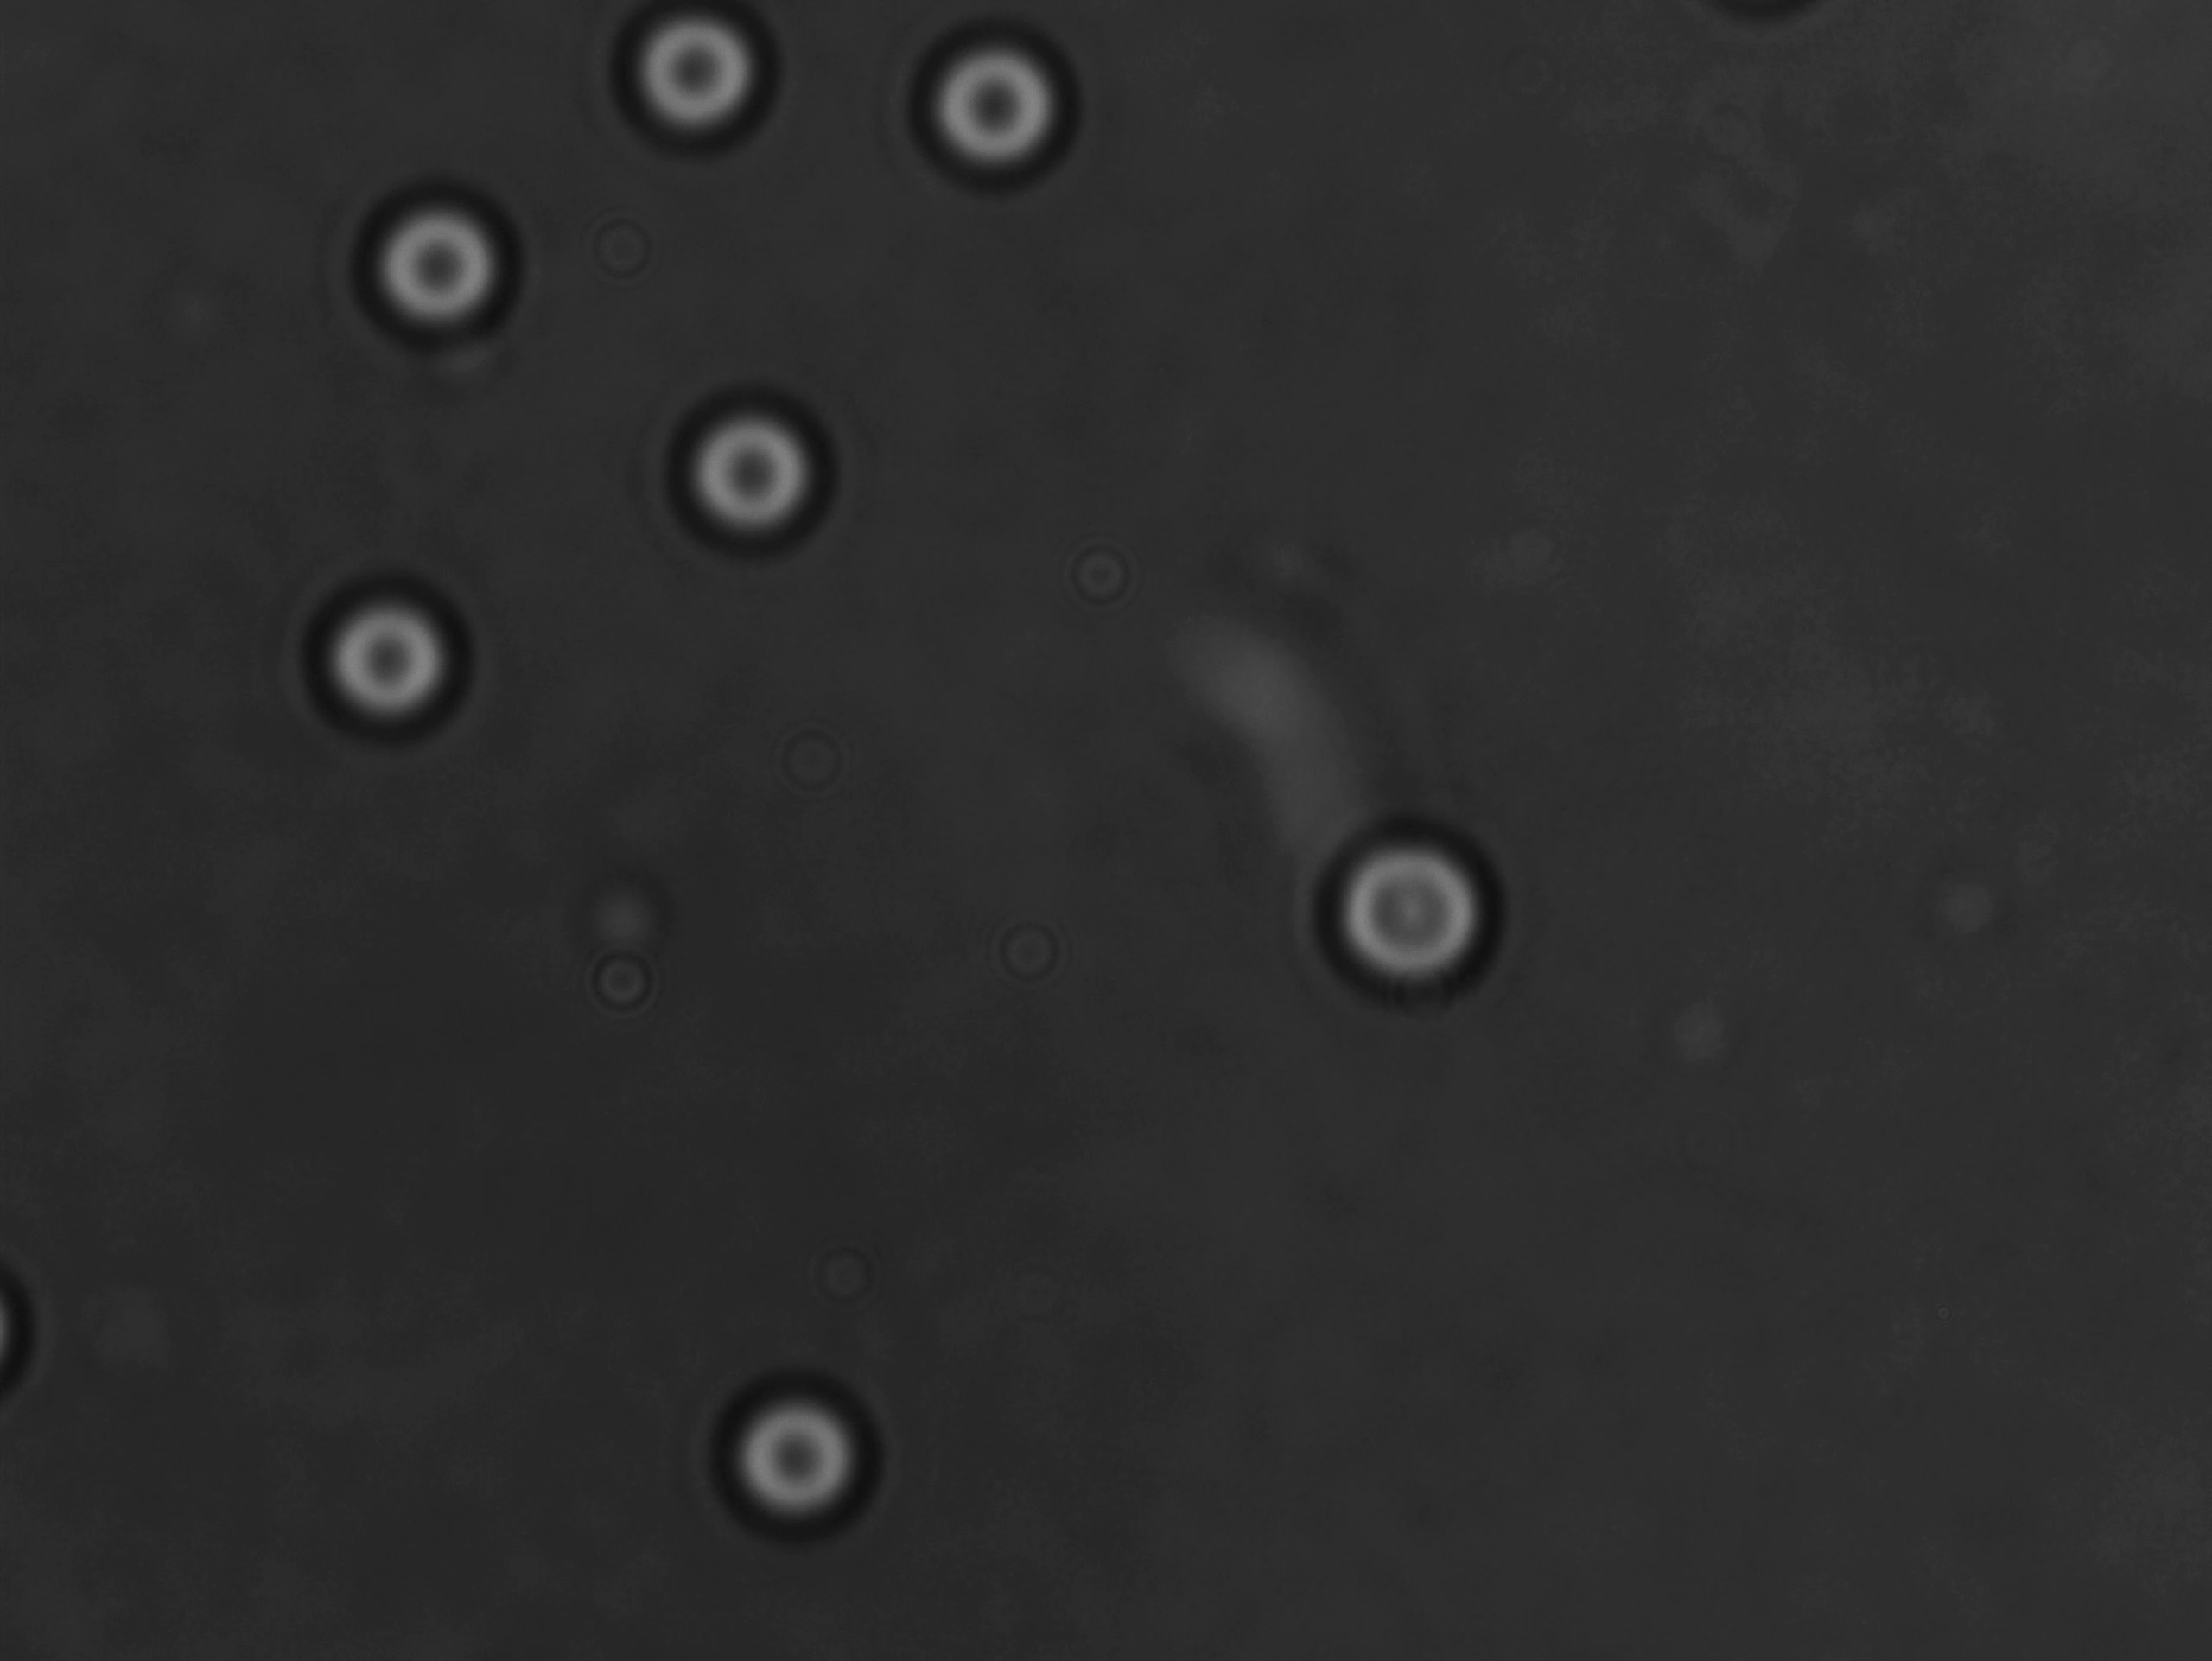depth:60: (1298, 803, 1519, 1021)
depth:80: (689, 1343, 914, 1563), (269, 530, 483, 759), (897, 19, 1099, 211), (658, 370, 851, 569), (345, 164, 518, 349)
